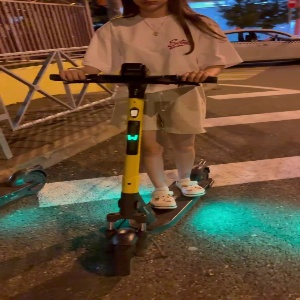human on a scooter: (48, 1, 246, 277)
